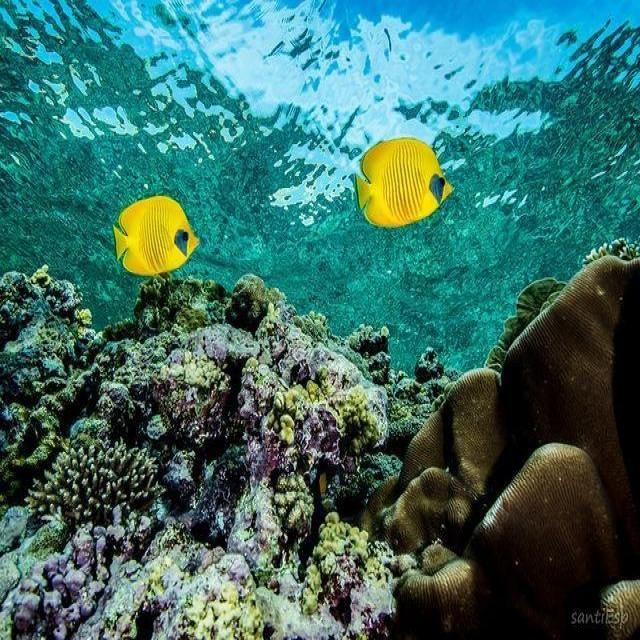fish: (356, 137, 455, 227), (113, 195, 200, 276)
reefs: (0, 266, 462, 639), (361, 255, 639, 638)
